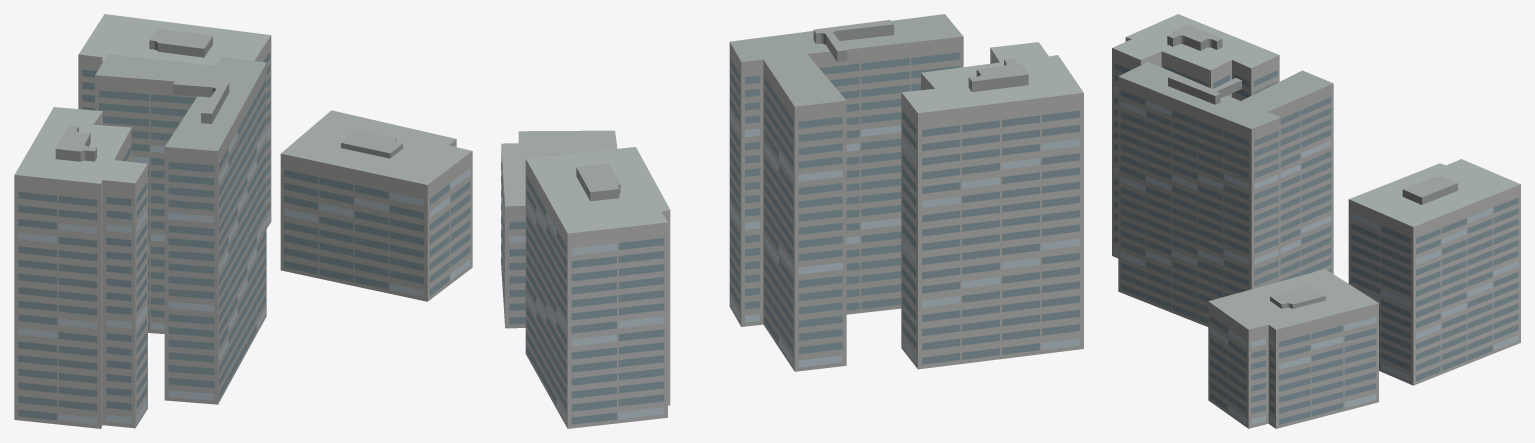
Rendered from apt-a10020888.glb.
The picture shows the model from 3 angles, left to right: view 1: azimuth 30°, elevation 25°; view 2: azimuth 150°, elevation 25°; view 3: azimuth 270°, elevation 25°; orthographic projection. The views are drawn at different scales.
Parts seen in each view (by area): view 1: apt-a10020888; view 2: apt-a10020888; view 3: apt-a10020888.
Boxes of the visible parts, bbox=[...] form: apt-a10020888: bbox=[14, 14, 472, 428]; apt-a10020888: bbox=[501, 14, 1083, 428]; apt-a10020888: bbox=[1112, 14, 1520, 428].
Bounding box in the file's own units: 123 × 62 × 103.
